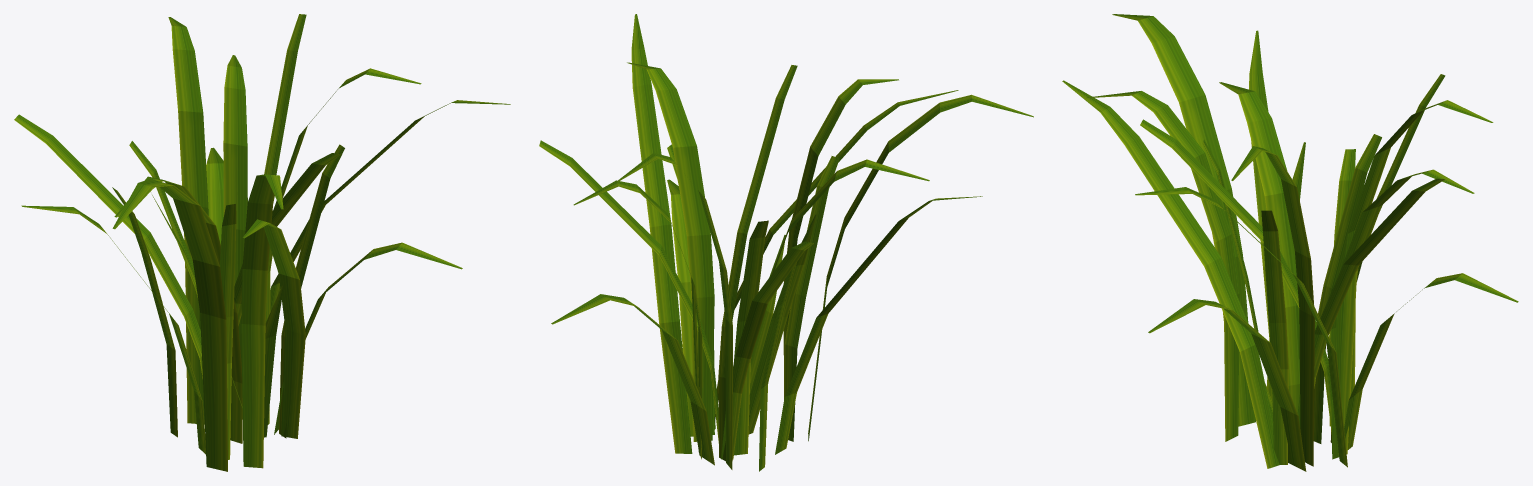
File: Grass.obj
The picture shows the model from 3 angles, left to right: view 1: azimuth 30°, elevation 25°; view 2: azimuth 150°, elevation 25°; view 3: azimuth 270°, elevation 25°; orthographic projection. The views are drawn at different scales.
Parts seen in each view (by area): view 1: Low_Grass:Grass_20; view 2: Low_Grass:Grass_20; view 3: Low_Grass:Grass_20.
Part boxes in pixels (x1,y1,x2,y2): Low_Grass:Grass_20: (14,14,510,471); Low_Grass:Grass_20: (539,14,1033,471); Low_Grass:Grass_20: (1062,14,1518,471).
Size of the model in its own units: 2.78 by 2.2 by 2.59.
